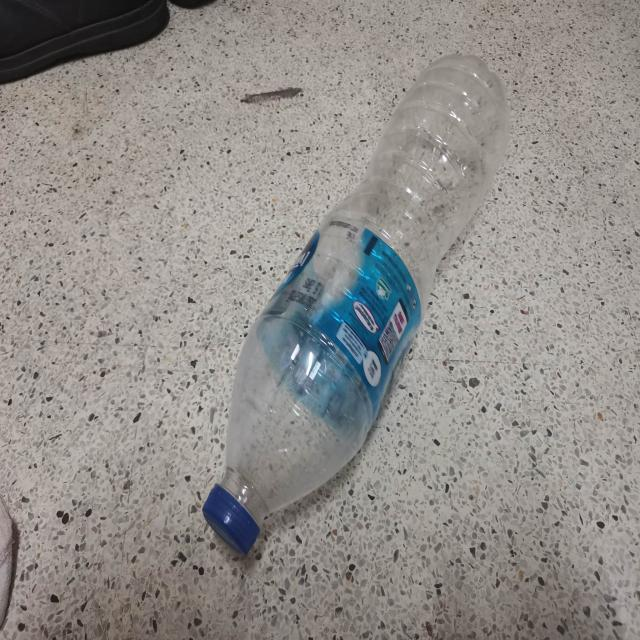plastic_bottle: (202, 54, 508, 556)
